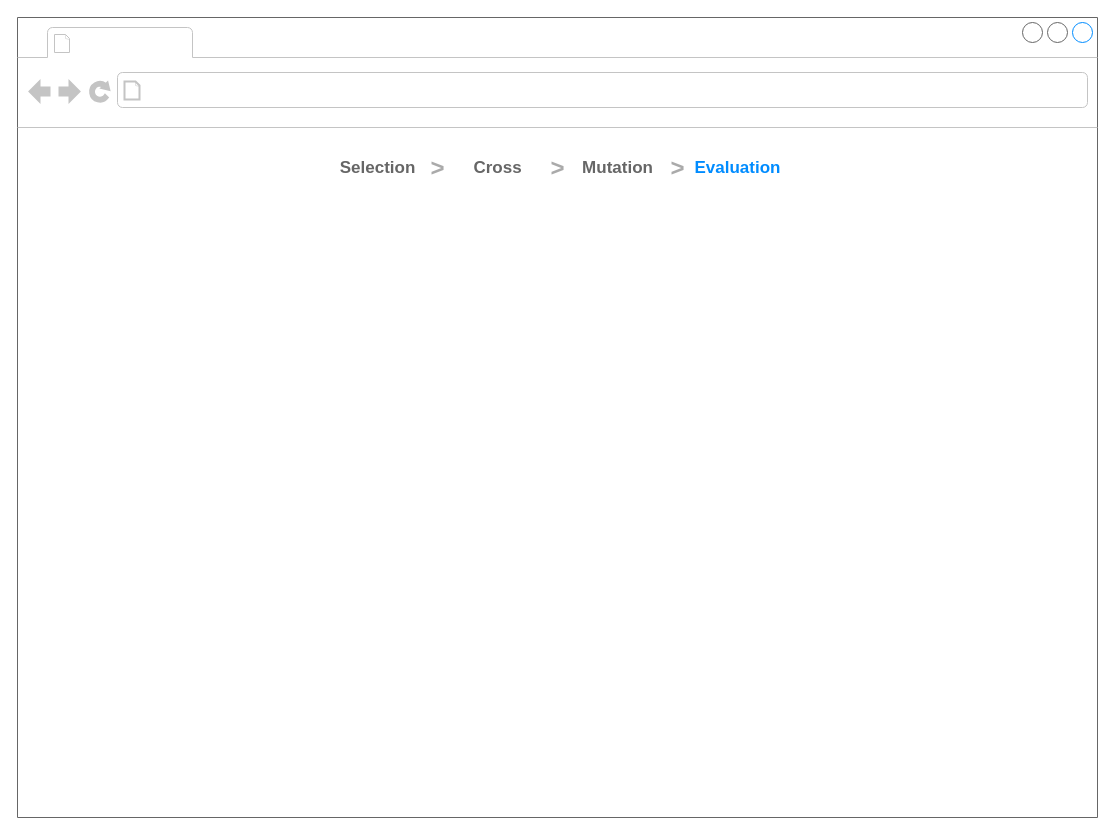
This 1115x835 diagram has some shape labels left out. The box of each missing label's shape, as (x1, y1, x2, y2) in pixels:
game: (76, 28, 188, 56)
https://www.cyokozai.gaopt.net/game: (146, 76, 398, 104)
